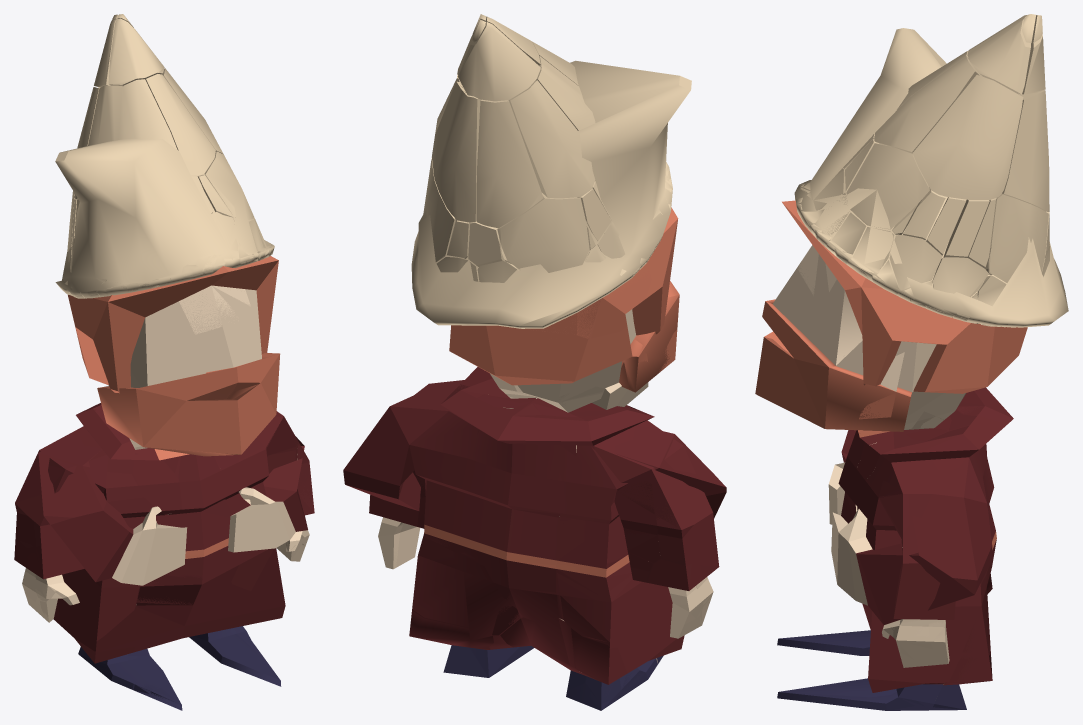
Rendered from gnome_1.fbx.
3 renders of one model, left to right at view 1: azimuth 30°, elevation 25°; view 2: azimuth 150°, elevation 25°; view 3: azimuth 270°, elevation 25°, orthographic. The views are drawn at different scales.
Parts seen in each view (by area): view 1: man-monk-old, hat, man-monk-old_cell.071, hat_cell.012, hat_cell.002, man-monk-old_cell.081, man-monk-old_cell.086, hat_cell.089, man-monk-old_cell.084, hat_cell.085, man-monk-old_cell.023, man-monk-old_cell.075 (+21 smaller); view 2: man-monk-old_cell.071, man-monk-old, hat, man-monk-old_cell.086, hat_cell.092, hat_cell.062, hat_cell.045, hat_cell.055, man-monk-old_cell.047, hat_cell.003, man-monk-old_cell.109, man-monk-old_cell.013 (+20 smaller); view 3: man-monk-old, man-monk-old_cell.071, hat, man-monk-old_cell.086, hat_cell.024, hat_cell.090, hat_cell.012, hat_cell.055, hat_cell, man-monk-old_cell.081, hat_cell.002, hat_cell.030 (+21 smaller).
Boxes of the visible parts, <box> form: man-monk-old: <box>38,260,307,702</box>; hat: <box>55,138,274,297</box>; man-monk-old_cell.071: <box>14,319,314,710</box>; hat_cell.012: <box>145,74,215,175</box>; hat_cell.002: <box>108,18,164,86</box>; man-monk-old_cell.081: <box>97,384,257,456</box>; man-monk-old_cell.086: <box>75,256,278,449</box>; hat_cell.089: <box>123,79,177,149</box>; man-monk-old_cell.084: <box>171,262,256,334</box>; hat_cell.085: <box>88,85,125,145</box>; man-monk-old_cell.023: <box>136,575,202,605</box>; man-monk-old_cell.075: <box>178,453,220,509</box>; man-monk-old_cell.071: <box>381,281,717,710</box>; man-monk-old: <box>343,220,726,686</box>; hat: <box>411,60,691,328</box>; man-monk-old_cell.086: <box>449,207,677,409</box>; hat_cell.092: <box>476,99,543,228</box>; hat_cell.062: <box>508,80,595,198</box>; hat_cell.045: <box>497,193,589,272</box>; hat_cell.055: <box>432,81,481,222</box>; man-monk-old_cell.047: <box>412,538,522,635</box>; hat_cell.003: <box>457,22,540,101</box>; man-monk-old_cell.109: <box>557,562,632,641</box>; man-monk-old_cell.013: <box>409,610,496,677</box>; man-monk-old: <box>755,202,1012,703</box>; man-monk-old_cell.071: <box>764,291,1013,710</box>; hat: <box>794,28,1068,327</box>; man-monk-old_cell.086: <box>782,200,1027,393</box>; hat_cell.024: <box>912,74,1023,199</box>; hat_cell.090: <box>846,143,929,229</box>; hat_cell.012: <box>874,56,982,153</box>; hat_cell.055: <box>1001,90,1049,211</box>; hat_cell: <box>990,194,1048,282</box>; man-monk-old_cell.081: <box>774,340,908,431</box>; hat_cell.002: <box>967,15,1030,94</box>; hat_cell.030: <box>889,235,942,290</box>.
Size of the model in its own units: 62.78 by 125 by 53.69.
